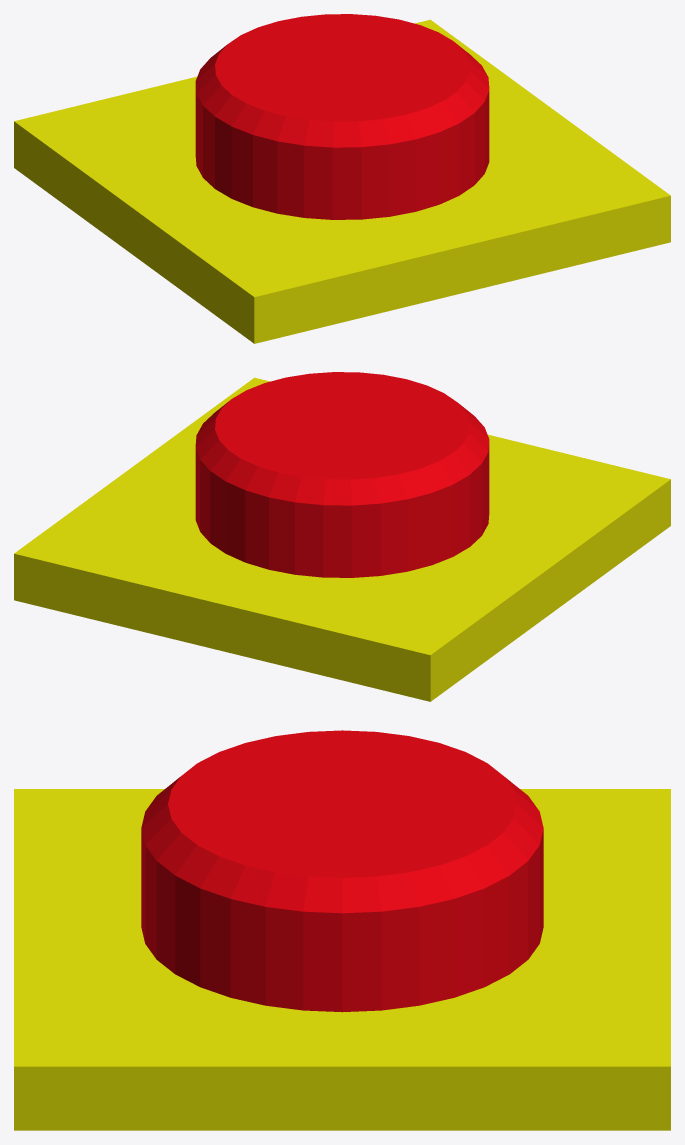
File: button_animation.glb
3 renders of one model, top to bottom at view 1: azimuth 30°, elevation 25°; view 2: azimuth 150°, elevation 25°; view 3: azimuth 270°, elevation 25°, orthographic. The views are drawn at different scales.
Visible parts, largest first — view 1: base, 円柱; view 2: base, 円柱; view 3: base, 円柱.
Part boxes in pixels (bbox=[...]): base: bbox=[14, 19, 670, 343]; 円柱: bbox=[195, 14, 489, 219]; base: bbox=[14, 377, 670, 701]; 円柱: bbox=[195, 372, 489, 577]; base: bbox=[14, 789, 670, 1130]; 円柱: bbox=[141, 730, 543, 1012].
Bounding box in the file's own units: 0.5186 × 0.1633 × 0.5186.
